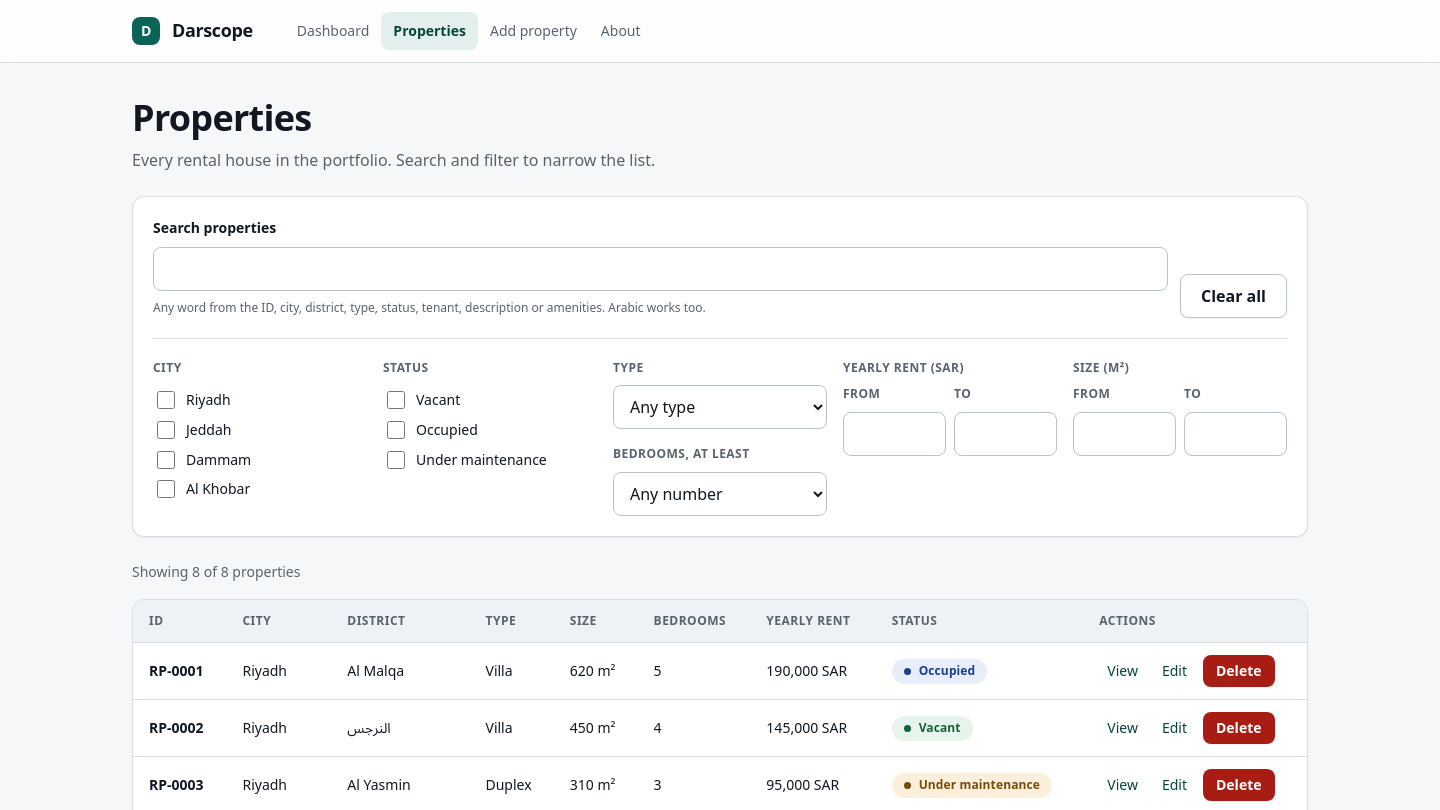
Test: The filters (FR-SRC-04, FR-SRC-05) › FR-SRC-06 Clear all also empties the search box
Type "jeddah" into the search field labelled "Search properties" at (660, 269), box [153, 247, 1168, 291]
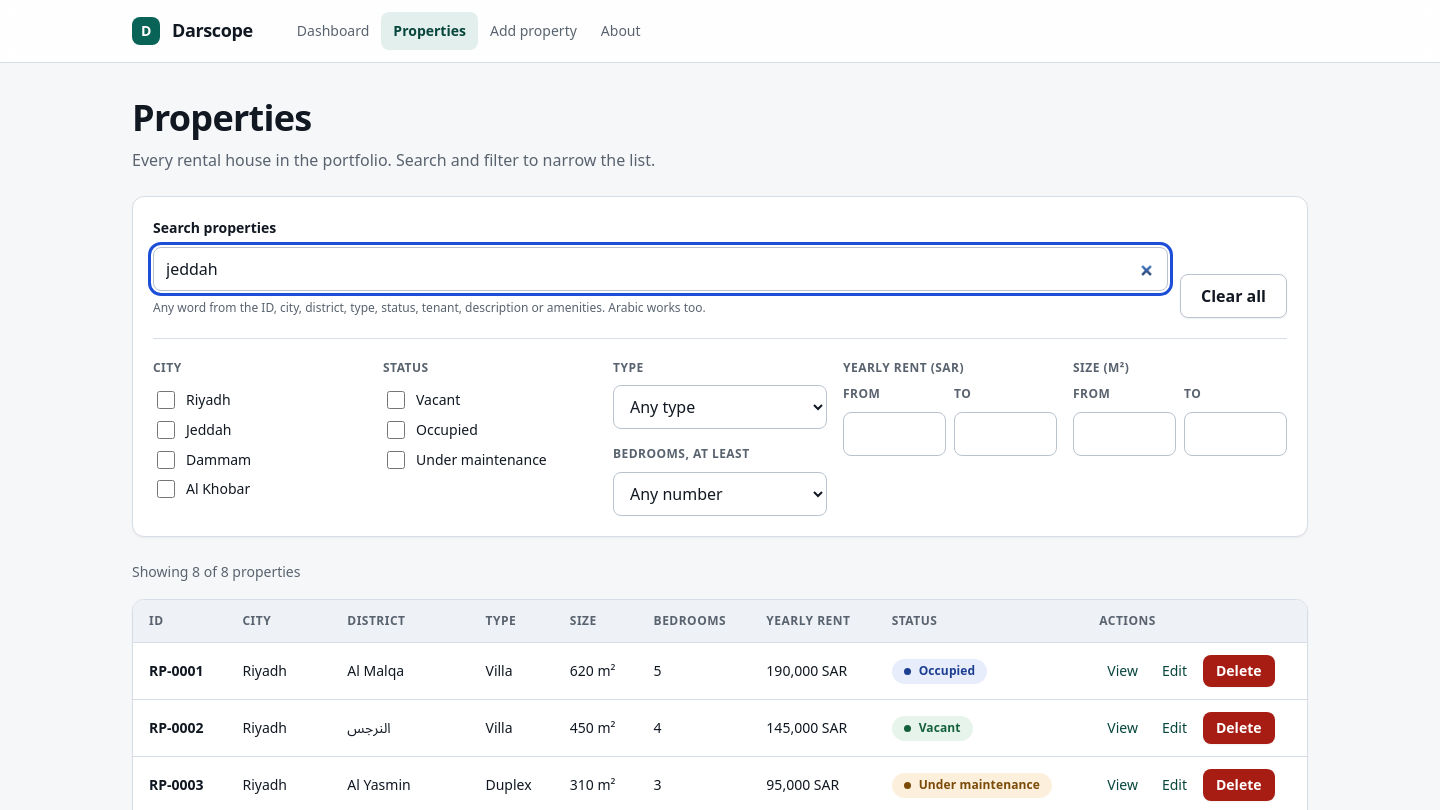
Click the button "Clear all" at (1234, 296), box [1180, 274, 1287, 318]
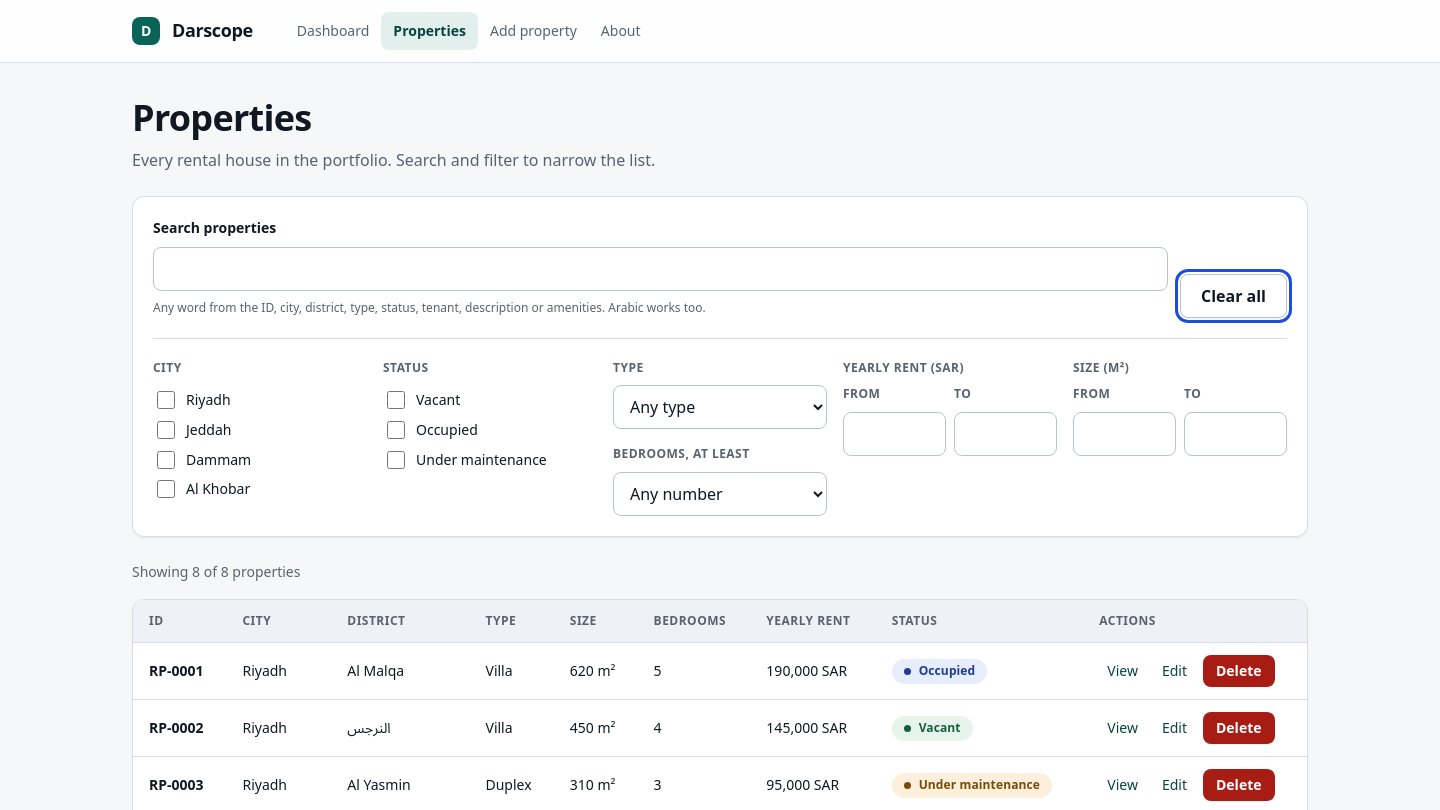
Expected: the search field labelled "Search properties" is empty, [153, 247, 1168, 291]
